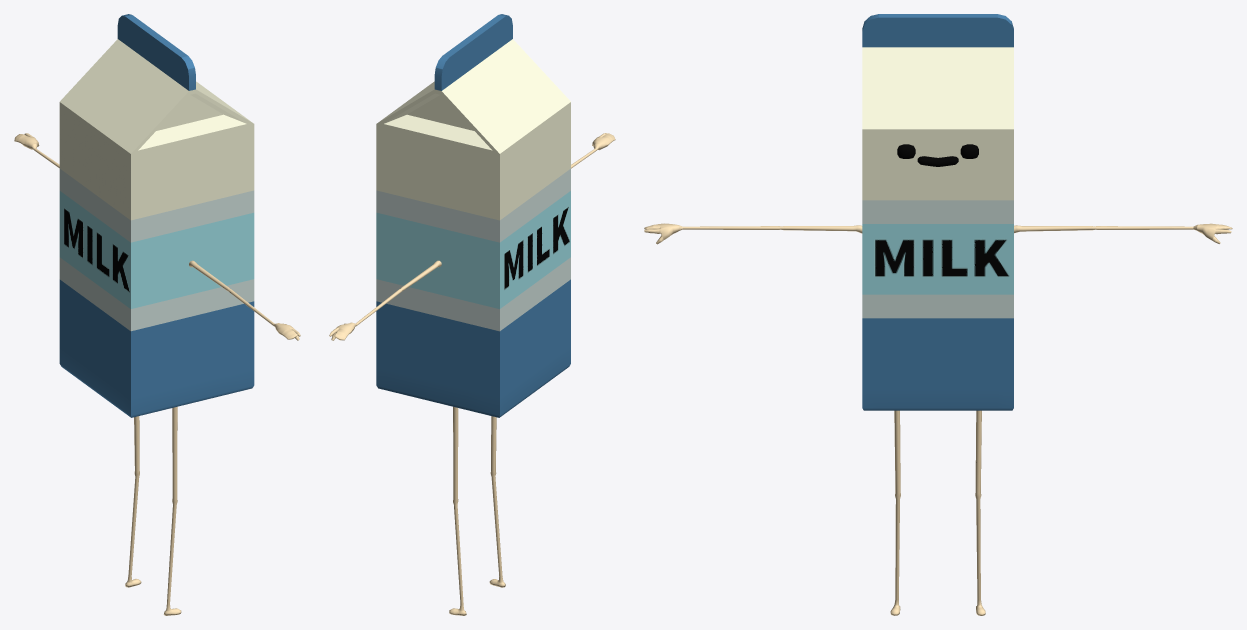
Rendered from avatars_tposing_milk_character.glb.
3 renders of one model, left to right at view 1: azimuth 30°, elevation 25°; view 2: azimuth 150°, elevation 25°; view 3: azimuth 270°, elevation 25°, orthographic. The views are drawn at different scales.
Parts seen in each view (by area): view 1: Hand_Small_Template5; view 2: Hand_Small_Template5; view 3: Hand_Small_Template5.
Part boxes in pixels (x1,y1,x2,y2): Hand_Small_Template5: [14, 14, 300, 615]; Hand_Small_Template5: [329, 14, 615, 615]; Hand_Small_Template5: [644, 14, 1232, 615].
Bounding box in the file's own units: 1.11 × 4.62 × 4.12.
Materials: 1 (1 with a texture image).
